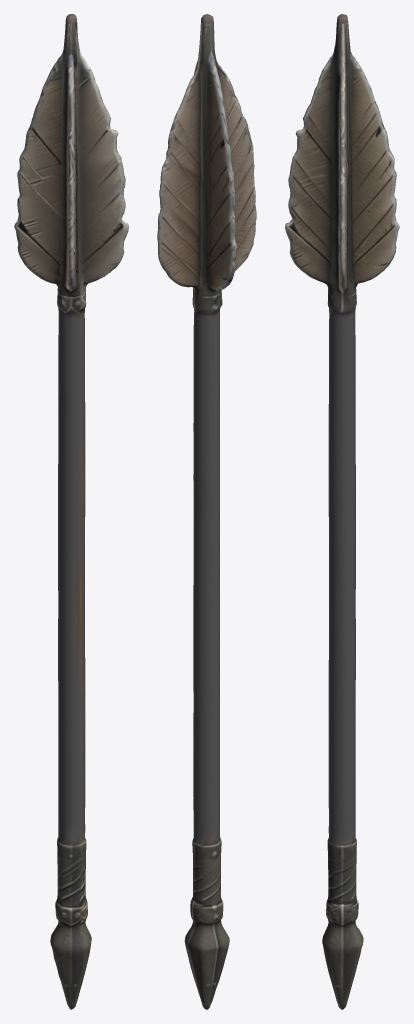
The model's file is Model_EnemyArrow.fbx.
3 renders of one model, left to right at view 1: azimuth 90°, elevation 25°; view 2: azimuth 210°, elevation 25°; view 3: azimuth 270°, elevation 25°, orthographic.
Parts seen in each view (by area): view 1: Mesh_0; view 2: Mesh_0; view 3: Mesh_0.
Part boxes in pixels (x1=…): Mesh_0: x1=14, y1=14, x2=128, y2=1009; Mesh_0: x1=157, y1=14, x2=256, y2=1009; Mesh_0: x1=285, y1=14, x2=399, y2=1009.
Bounding box in the file's own units: 20.84 × 200 × 20.93.
1 material, 1 textured.
